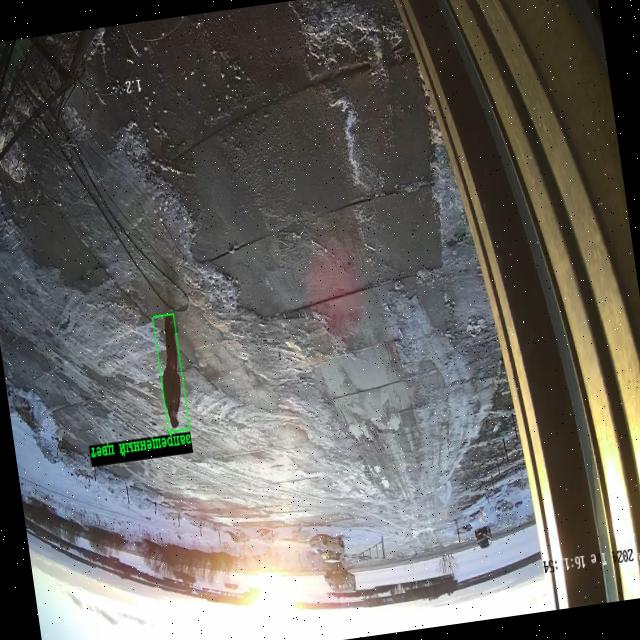Person: (163, 318, 181, 429)
